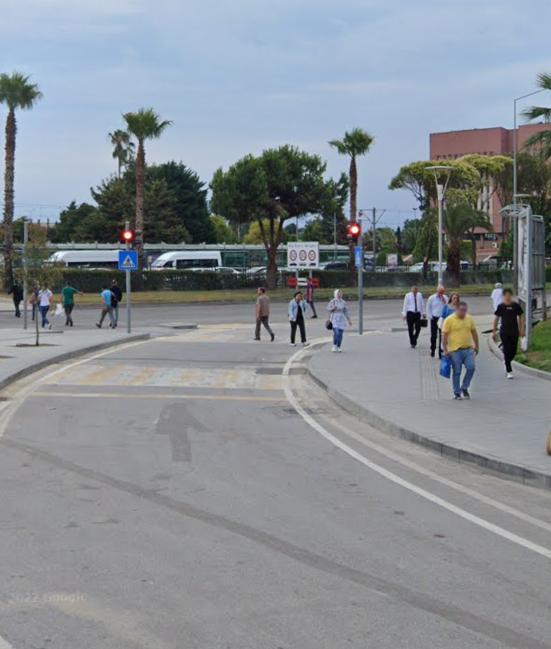redlight: (349, 220, 360, 241), (123, 222, 134, 243)
